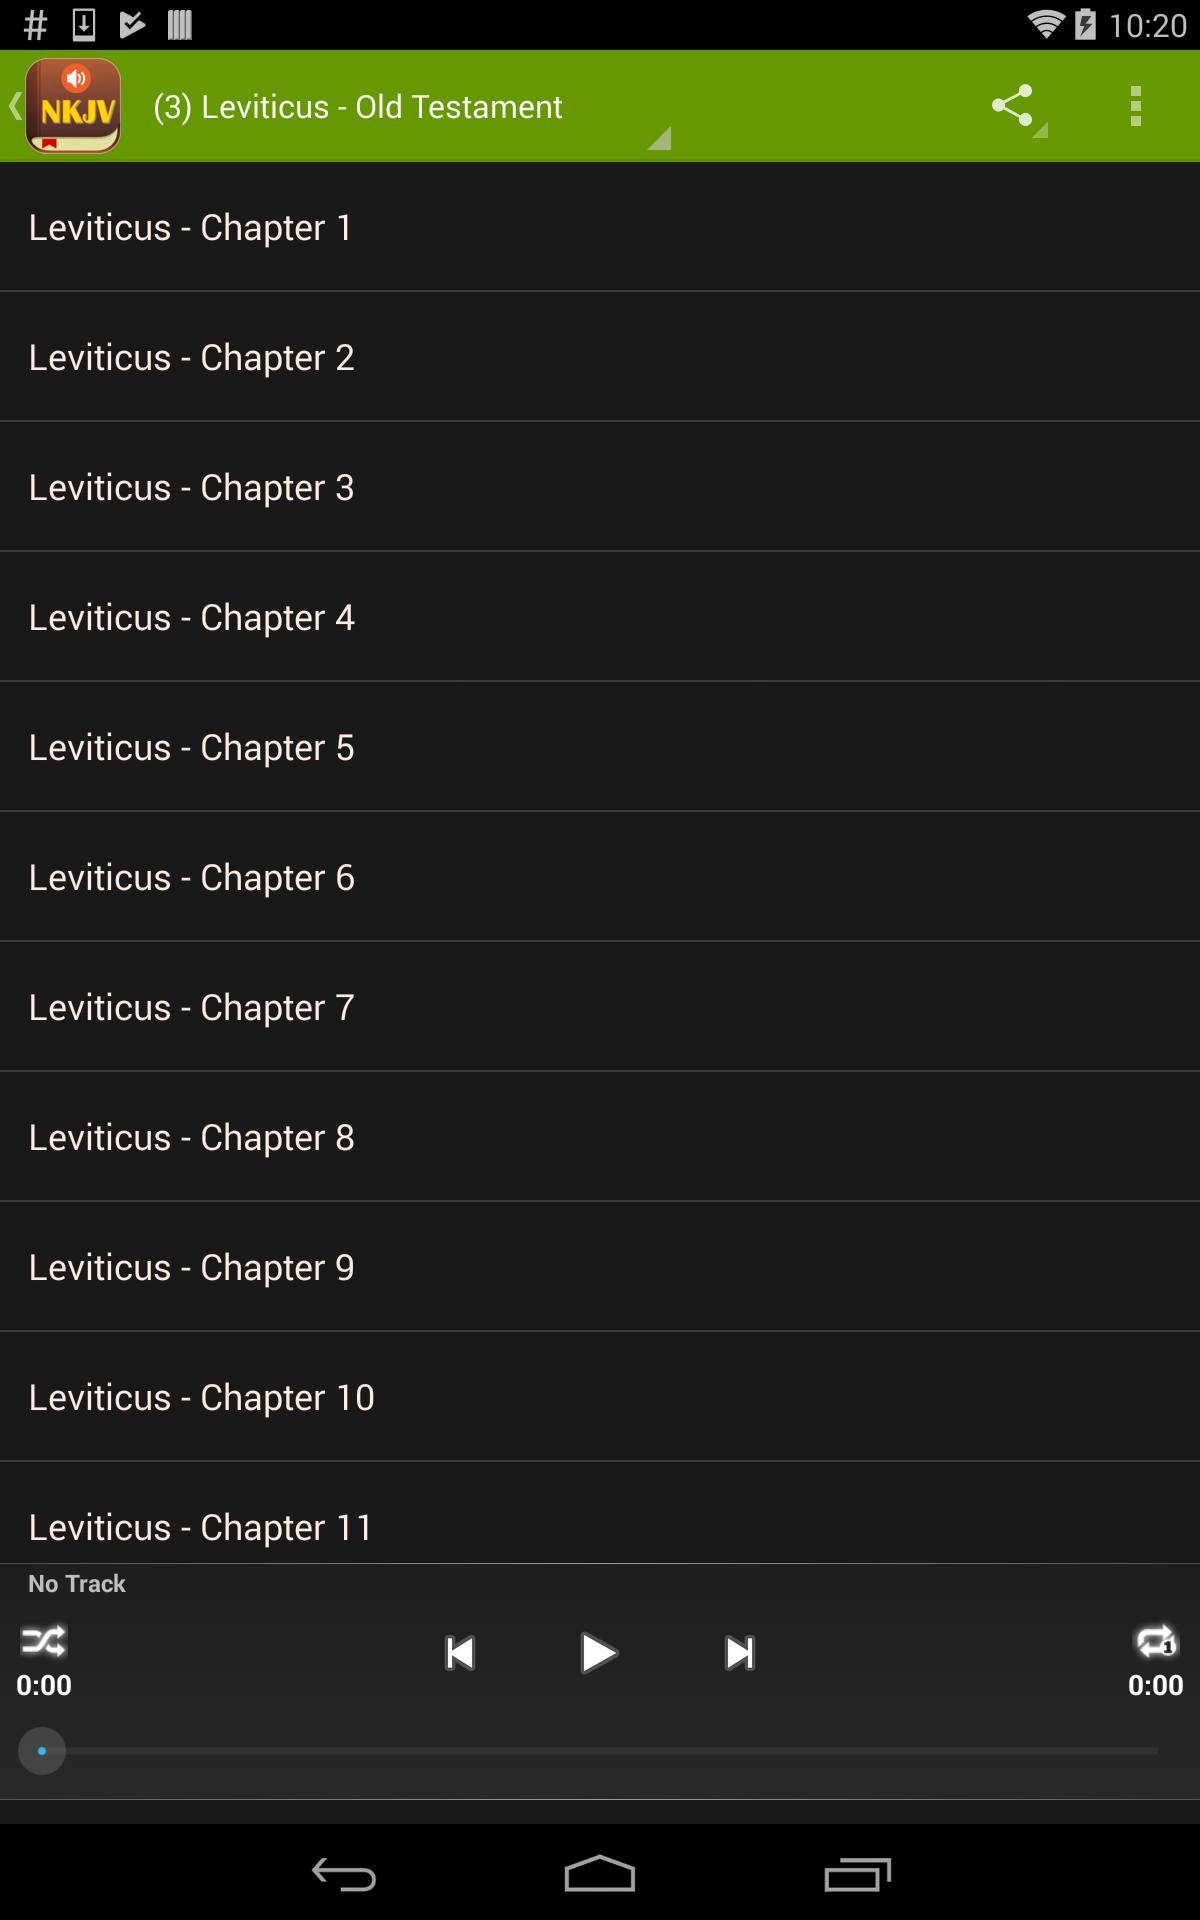android.view.View: (0, 0, 1200, 1825), (0, 50, 1200, 162), (959, 50, 1071, 162)
android.widget.FrameLayout: (0, 0, 1200, 1825), (0, 162, 1200, 1825), (0, 50, 1200, 162), (0, 50, 129, 162), (959, 50, 1071, 162)
android.widget.ImageButton: (1071, 50, 1200, 162), (529, 1603, 671, 1703), (390, 1603, 529, 1703), (671, 1603, 810, 1703)
android.widget.ImageView: (0, 162, 1200, 1825), (25, 58, 122, 153), (959, 70, 1071, 142), (19, 1613, 68, 1666), (1132, 1613, 1181, 1666), (0, 1798, 1200, 1800), (0, 90, 32, 122)
android.widget.LinearLayout: (0, 162, 1200, 1825), (0, 1563, 1200, 1800), (0, 1703, 1200, 1798), (129, 50, 679, 162), (390, 1603, 810, 1703), (959, 50, 1200, 162), (0, 50, 129, 162), (959, 50, 1071, 162), (0, 1613, 80, 1703), (1120, 1613, 1200, 1703)
android.widget.RelativeLayout: (0, 162, 1200, 1825), (0, 162, 1200, 290), (0, 292, 1200, 420), (0, 422, 1200, 550), (0, 552, 1200, 680), (0, 681, 1200, 810), (0, 811, 1200, 940), (0, 941, 1200, 1070), (0, 1073, 1200, 1200), (0, 1203, 1200, 1330), (0, 1333, 1200, 1460), (0, 1462, 1200, 1590), (0, 1603, 1200, 1703)
android.widget.SeekBar: (10, 1703, 1190, 1798)
android.widget.Spinner: (129, 50, 679, 162)
android.widget.TextView: (0, 171, 1143, 281), (0, 301, 1143, 411), (0, 433, 1143, 540), (0, 563, 1143, 670), (0, 693, 1143, 800), (0, 822, 1143, 930), (0, 952, 1143, 1060), (0, 1082, 1143, 1190), (0, 1212, 1143, 1320), (0, 1342, 1143, 1450), (0, 1472, 1143, 1580), (0, 1563, 1200, 1603), (137, 58, 581, 153), (17, 1666, 72, 1703), (1128, 1666, 1183, 1703)
